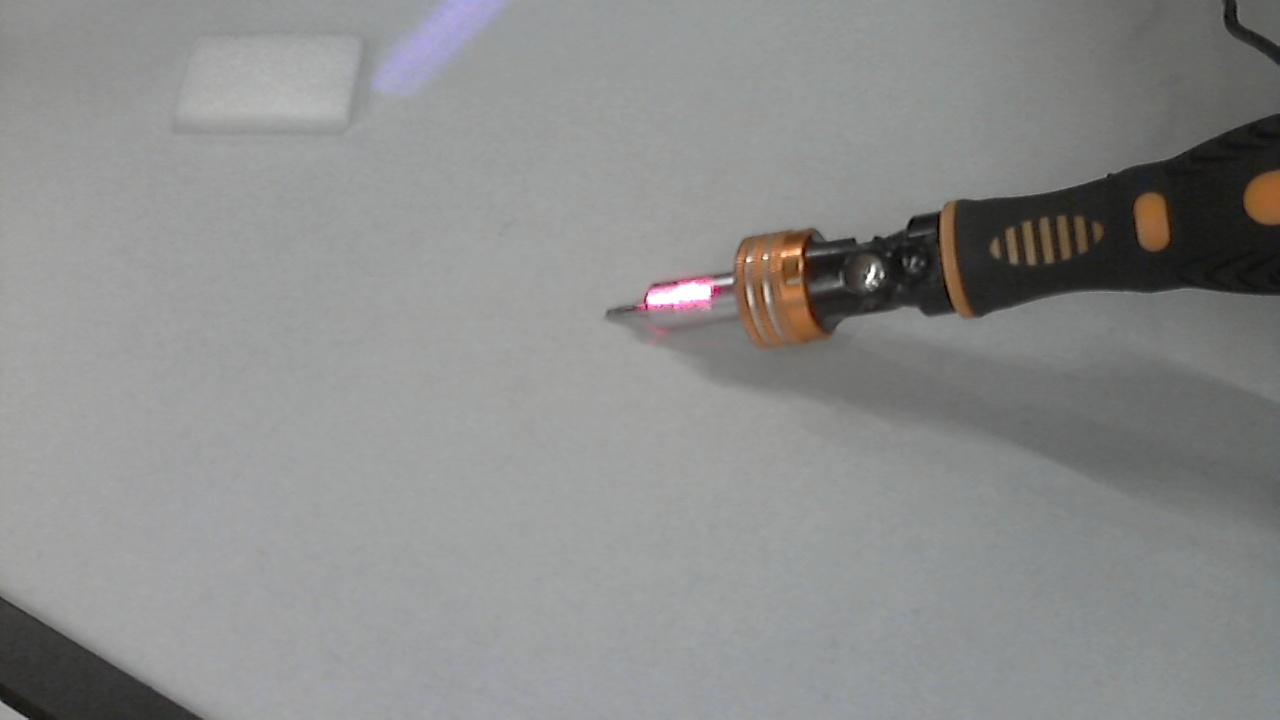Object precision screwdriver - Material rubber - Color black and orange - Pdfnam: (604, 267, 715, 329)
